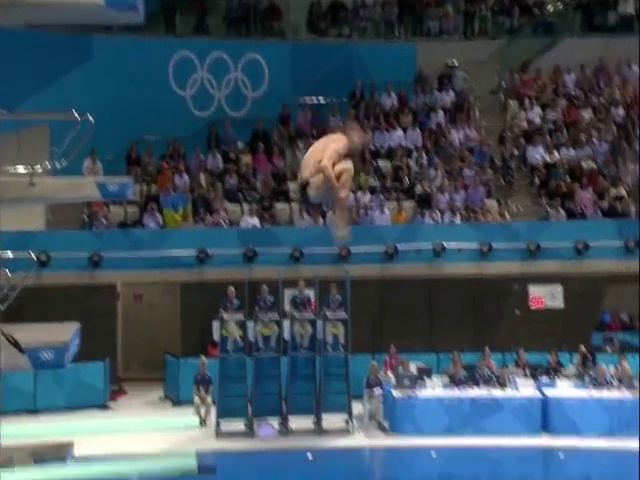diver: (298, 128, 367, 240)
